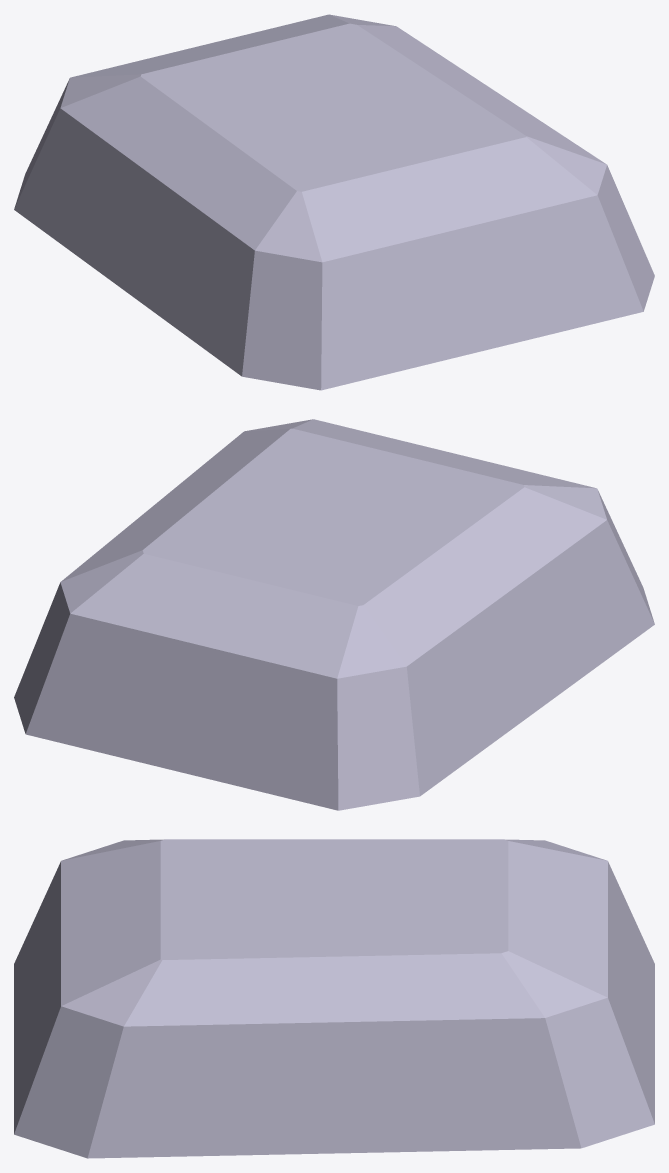
The model's file is Barrior-stone01.fbx.
3 views of the same model, one above another, from view 1: azimuth 30°, elevation 25°; view 2: azimuth 150°, elevation 25°; view 3: azimuth 270°, elevation 25° (orthographic). The views are drawn at different scales.
Visible parts, largest first — view 1: Barrior-stone01; view 2: Barrior-stone01; view 3: Barrior-stone01.
Boxes of the visible parts, bbox=[...] form: Barrior-stone01: bbox=[14, 14, 654, 390]; Barrior-stone01: bbox=[14, 419, 654, 810]; Barrior-stone01: bbox=[14, 839, 654, 1158].
Bounding box in the file's own units: 1814 × 576 × 2251.
